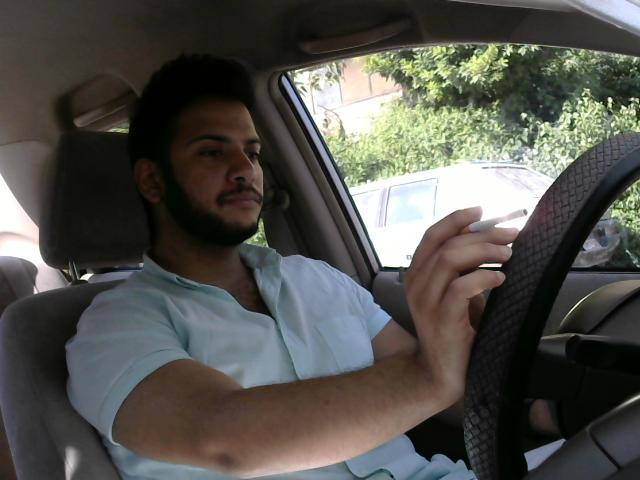Smoking: (459, 205, 530, 236)
